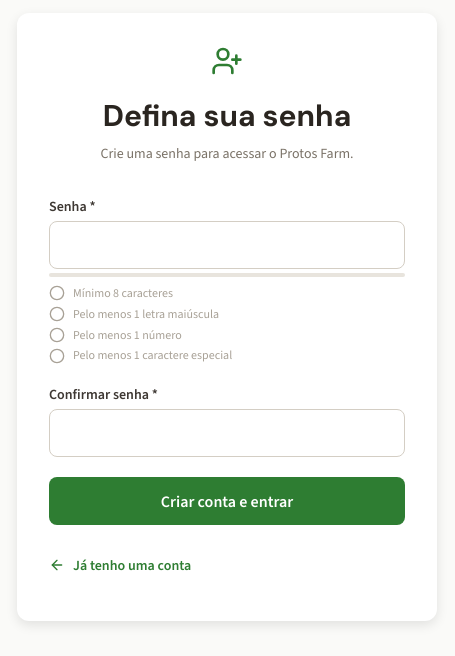
Test: AcceptInvitePage › disables button while submitting
Type "StrongPass1!" into the password field labelled "Senha *". click: (227, 245)
box: [49, 221, 405, 269]
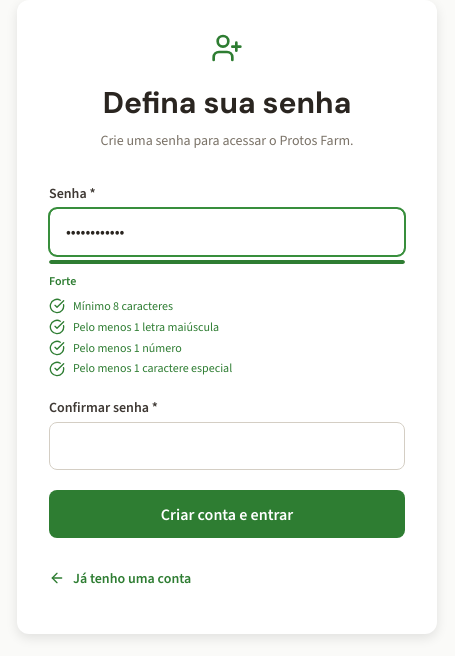
Type "StrongPass1!" into the password field labelled "Confirmar senha *". click: (227, 446)
box: [49, 422, 405, 470]
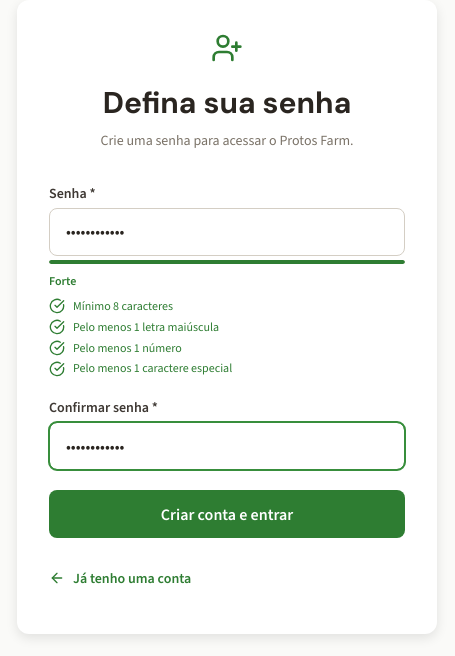
Click the button "Criar conta e entrar". click: (227, 514)
box: [49, 490, 405, 538]
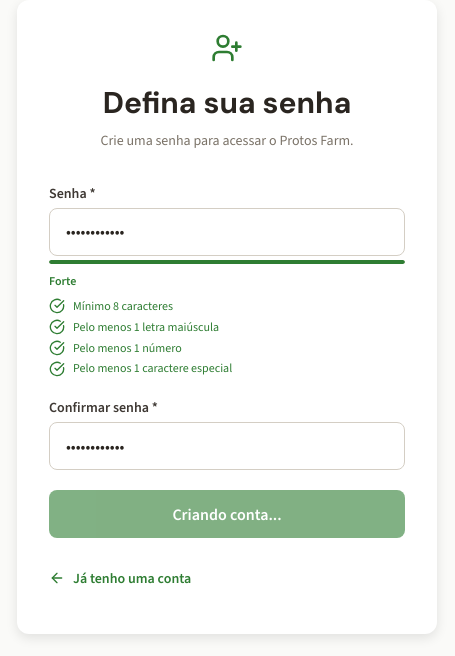
Expected: the button "Criando conta..." is disabled, [49, 490, 405, 538]
